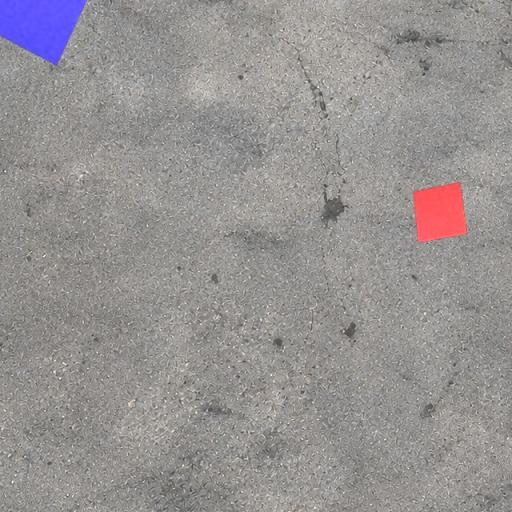BLUE_SQUARE: (0, 0, 100, 66)
RED_SQUARE: (413, 181, 468, 244)
